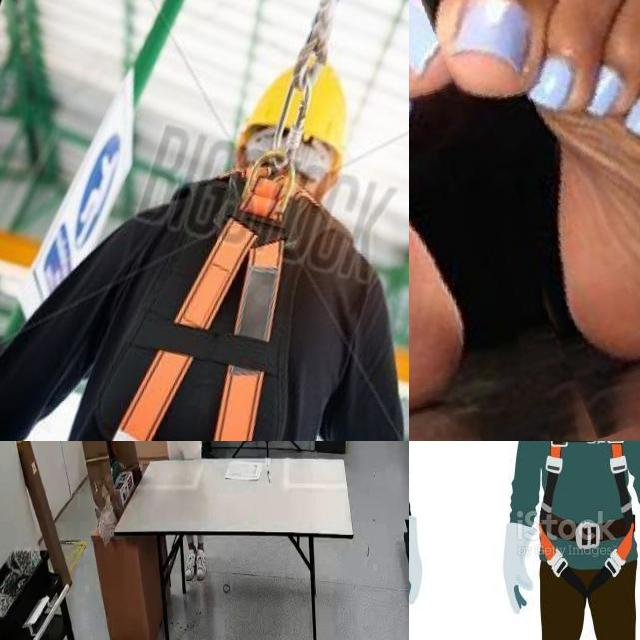Barefoots: (442, 0, 640, 398)
Harness: (112, 150, 295, 441), (540, 441, 638, 574)
shoes: (194, 544, 210, 582), (182, 547, 197, 582)
